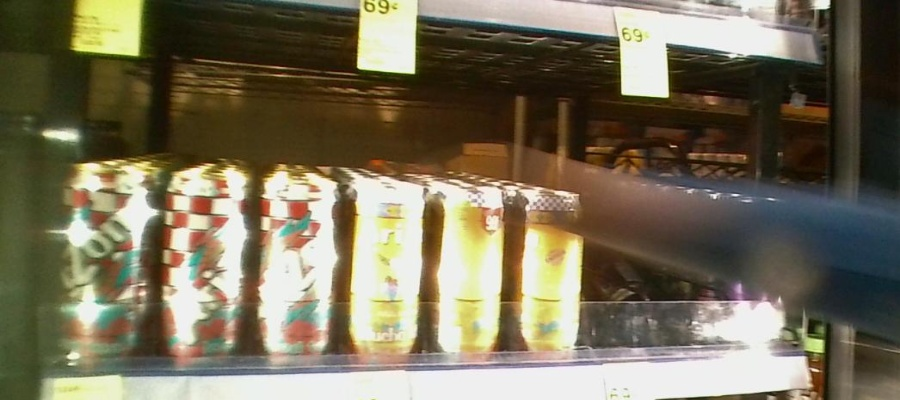bottle: (55, 154, 156, 364), (158, 160, 256, 365), (256, 158, 349, 368), (354, 162, 428, 364), (430, 170, 506, 361), (509, 182, 587, 360)
